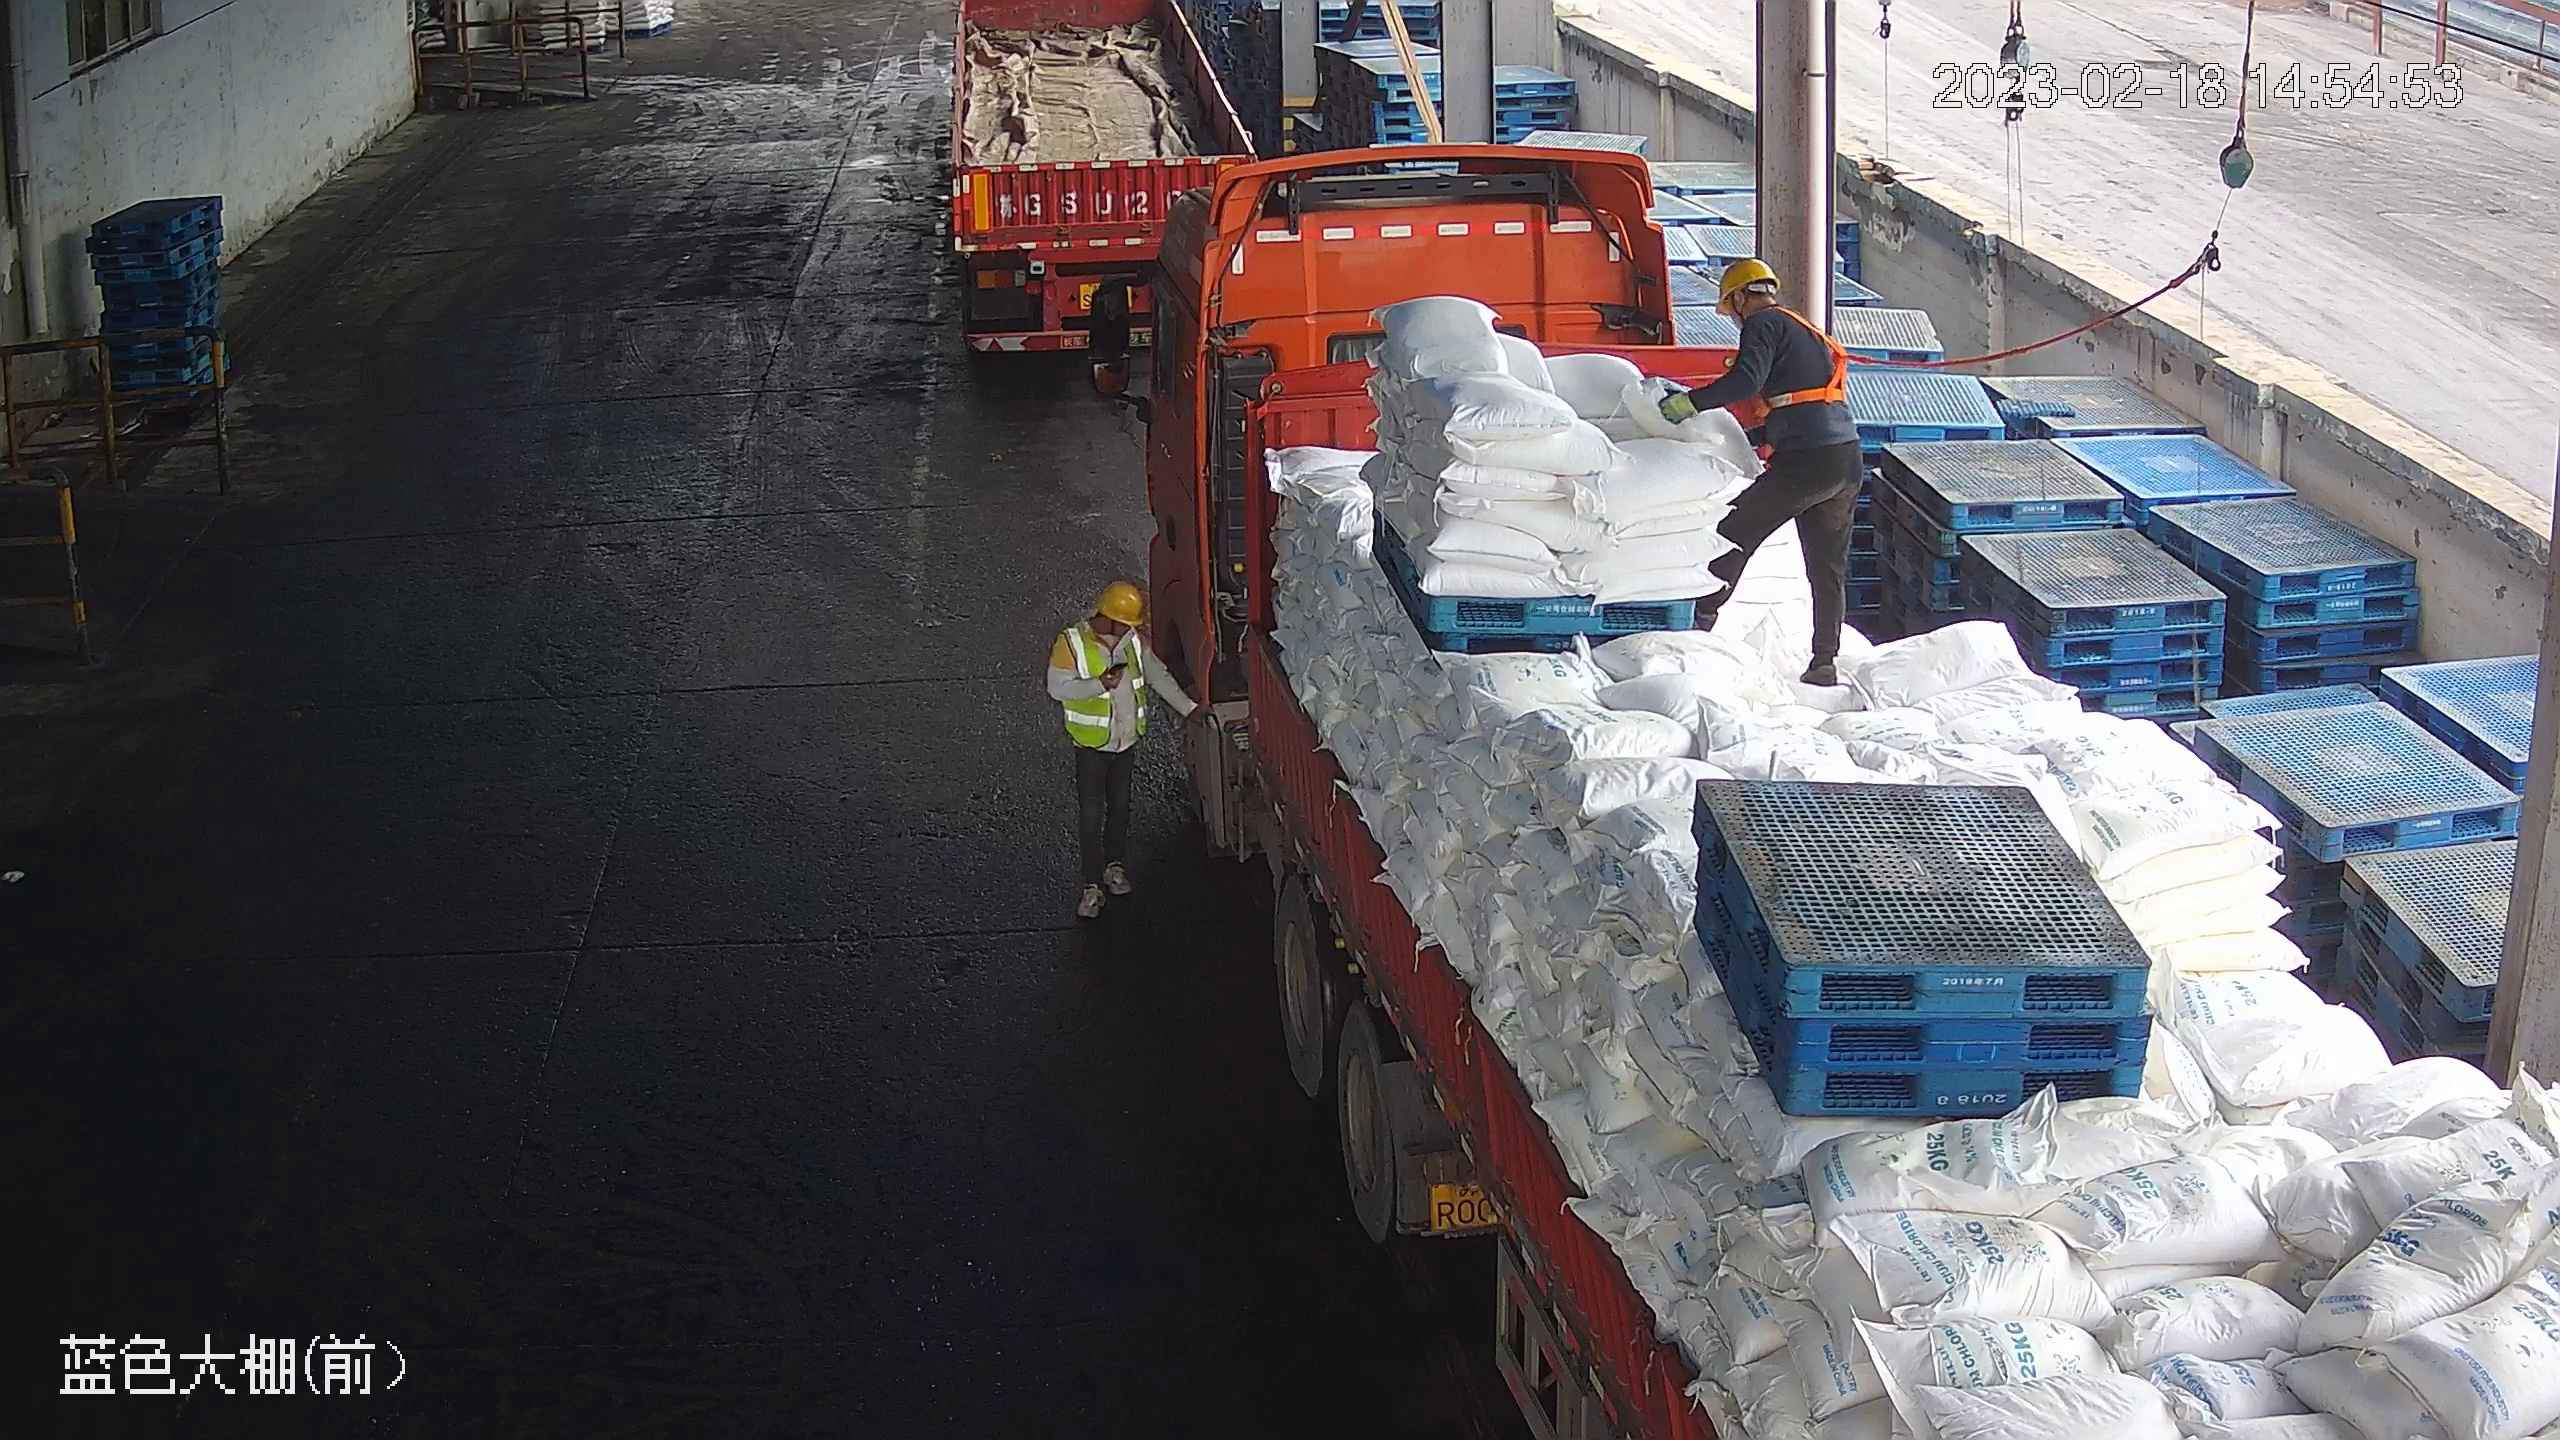belt: (1754, 301, 1856, 416)
head: (1709, 257, 1838, 360), (1053, 580, 1154, 678)
helmet: (1713, 256, 1778, 308), (1095, 580, 1143, 625)
people: (1658, 254, 1863, 684), (1052, 578, 1187, 905)
truck: (1089, 162, 2555, 1440), (940, 4, 1279, 380)
